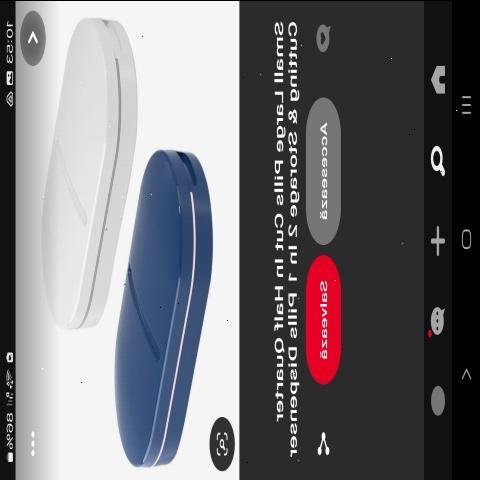Pill: (17, 15, 138, 356)
